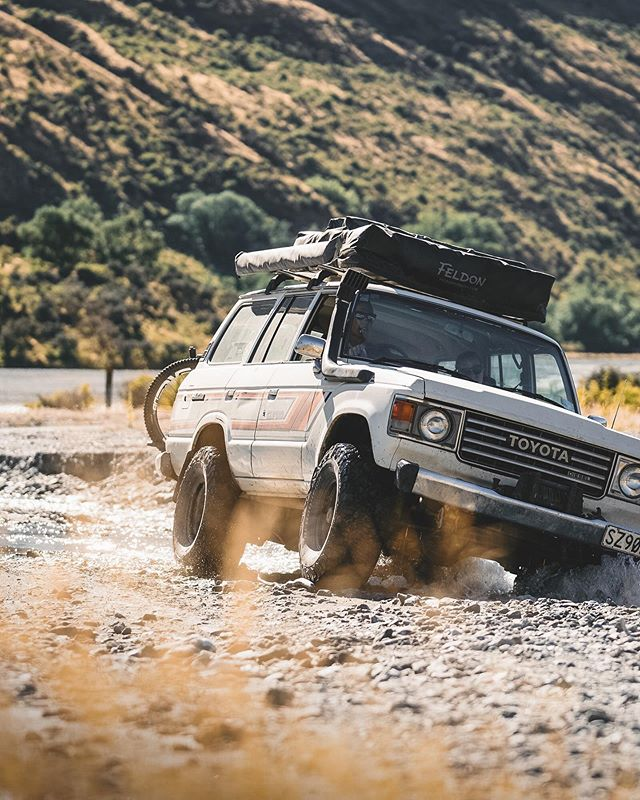car: (130, 264, 639, 604)
